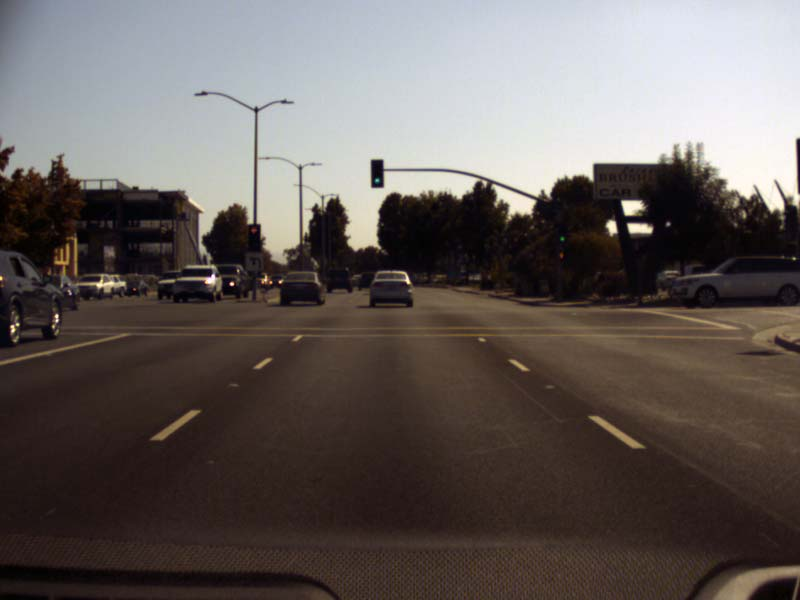Green: (371, 159, 383, 187), (558, 220, 568, 243)
Red: (248, 225, 259, 251)
